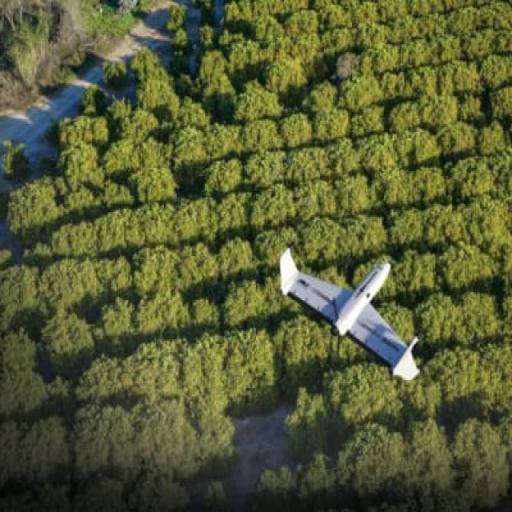uav: (278, 234, 430, 396)
